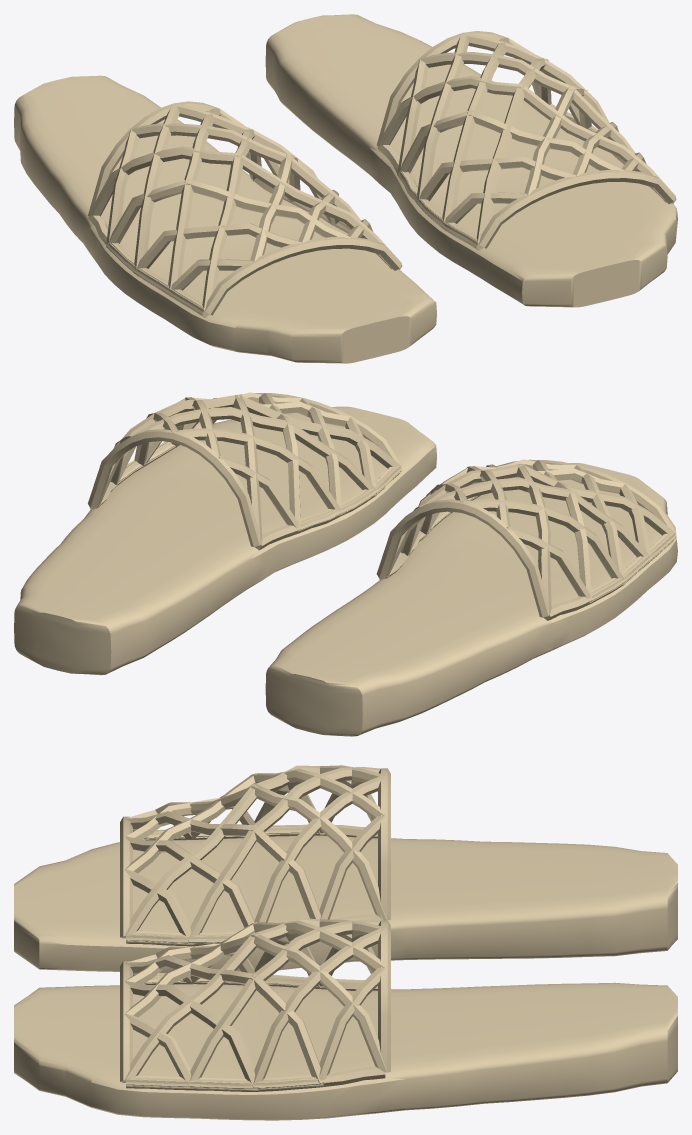
The model's file is dep_to_ong_vn.glb.
The picture shows the model from 3 angles, top to bottom: view 1: azimuth 30°, elevation 25°; view 2: azimuth 150°, elevation 25°; view 3: azimuth 270°, elevation 25°; orthographic projection. The views are drawn at different scales.
Visible parts, largest first — view 1: dep_to_ong_vn; view 2: dep_to_ong_vn; view 3: dep_to_ong_vn.
Boxes of the visible parts, <box> form: dep_to_ong_vn: <box>14,14,677,363</box>; dep_to_ong_vn: <box>14,392,677,736</box>; dep_to_ong_vn: <box>14,765,677,1120</box>.
Bounding box in the file's own units: 0.2344 × 0.0612 × 0.2537.
